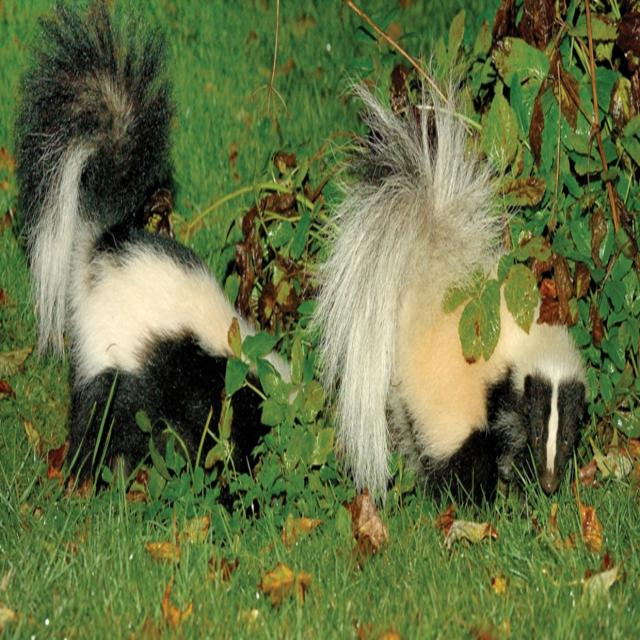Skunk: (6, 7, 298, 479)
